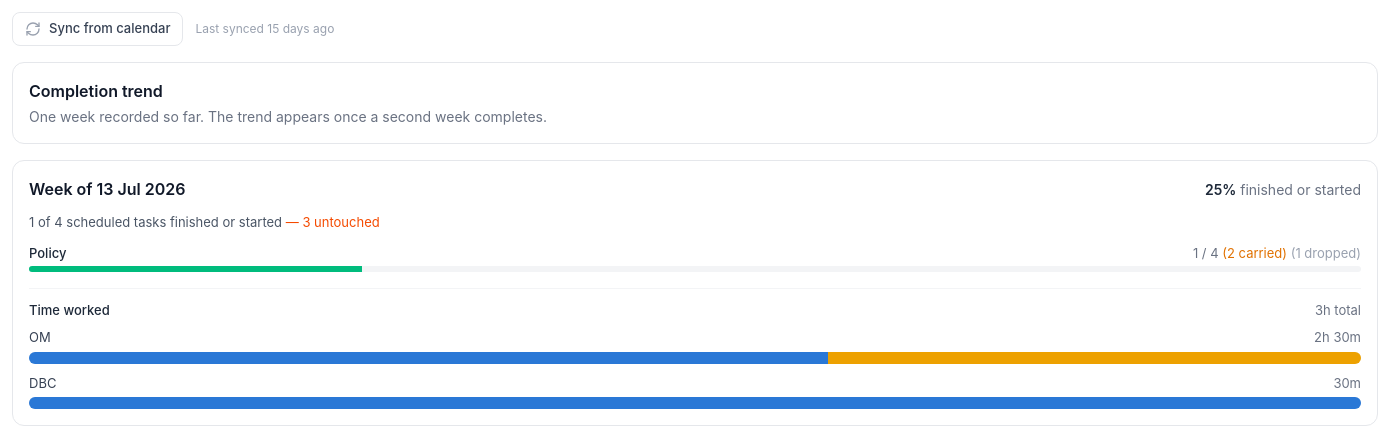
AnalysisView › calendar sync › reports a sync failure inline without losing the summaries
Click the button "Sync from calendar".
click(98, 29)  # box 12,12 -> 183,46
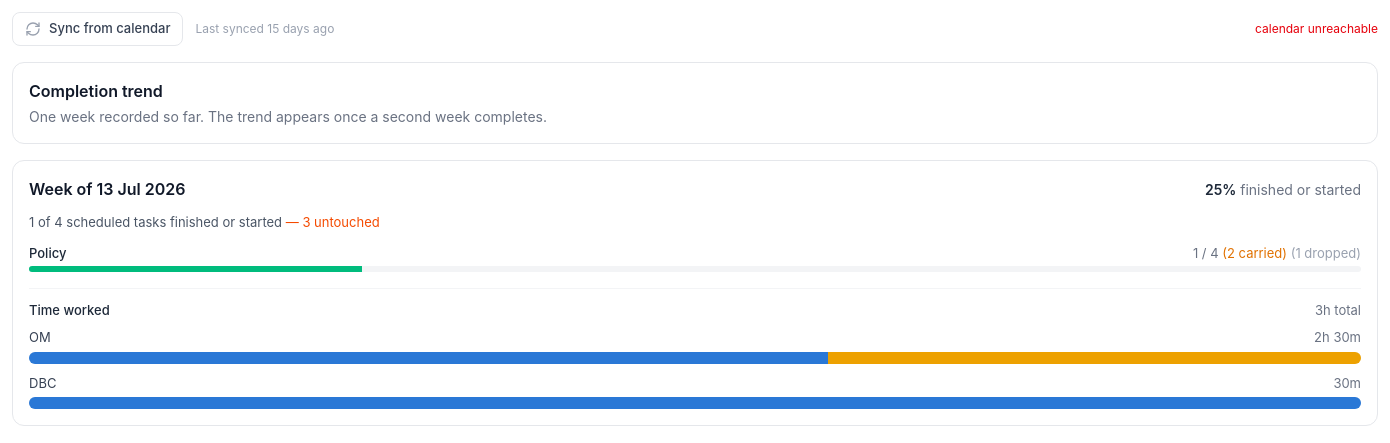
expect the heading "Week of 13 Jul 2026" is shown: met, box 29,176 -> 186,200
expect the text "calendar unreachable" is shown: met, box 1255,21 -> 1378,37
